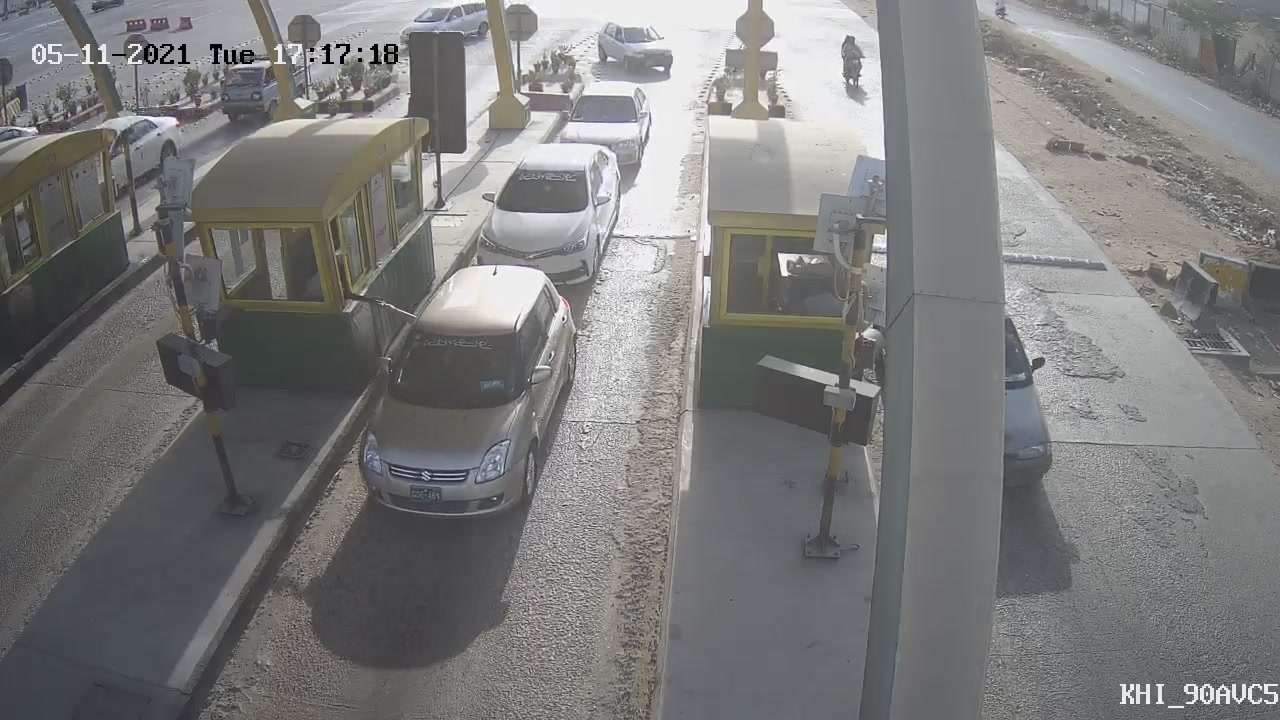F1: (335, 253, 592, 536), (463, 131, 633, 313)
